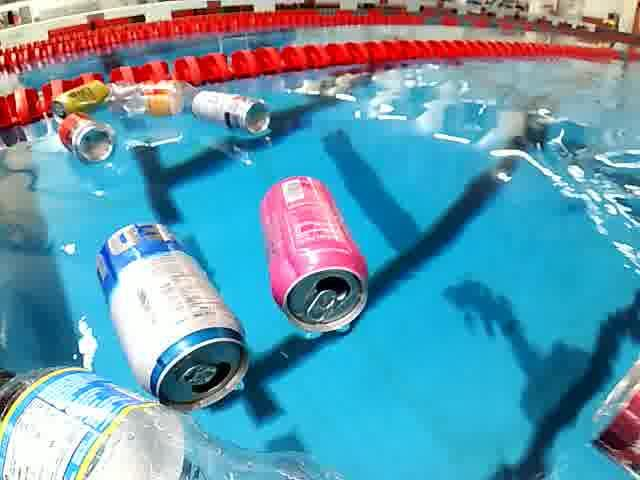Bottle: (1, 346, 360, 480), (102, 74, 210, 116)
Can: (93, 216, 257, 418), (252, 171, 378, 336), (577, 352, 640, 480), (189, 88, 277, 138), (53, 109, 121, 169), (48, 78, 110, 124)
